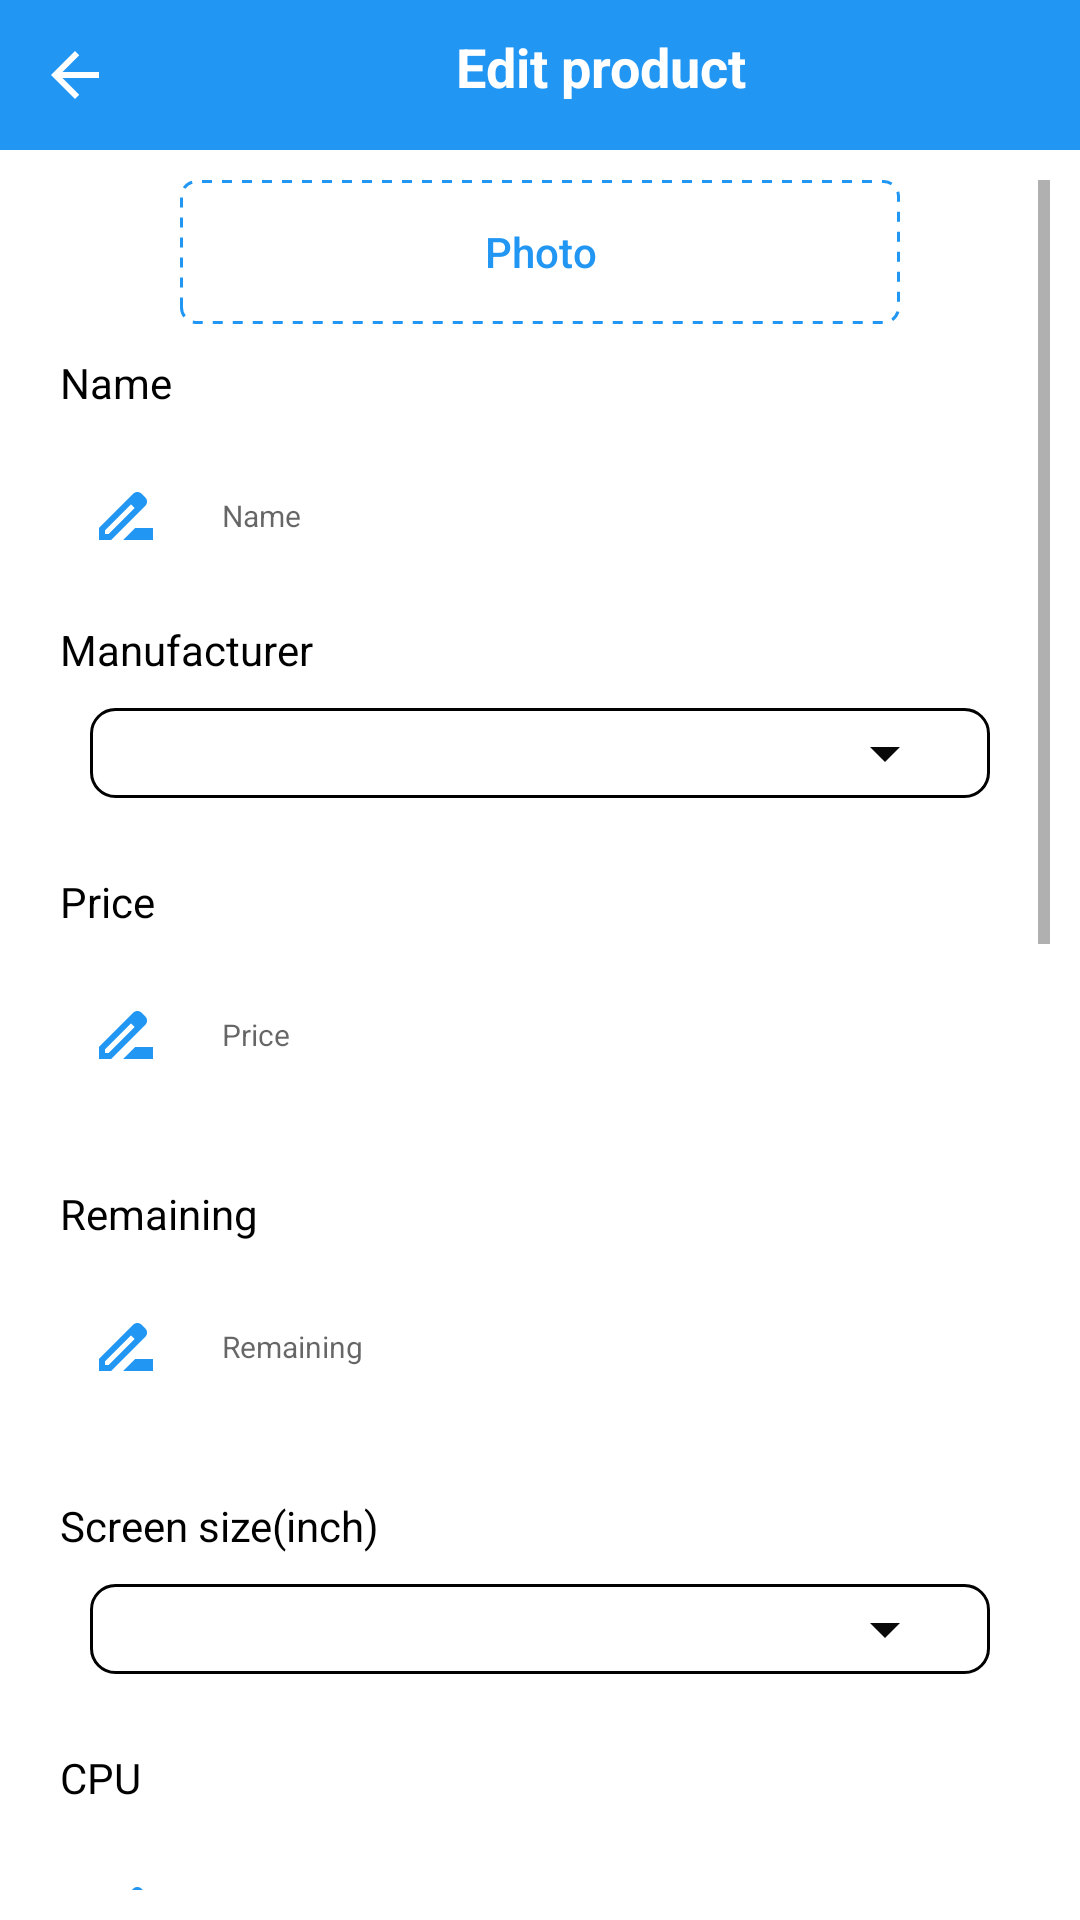

Screen size 1080×1920. Icon name, then its box in pixels as (x1, y1, x2, y2):
arrow back: (51, 51, 99, 99)
